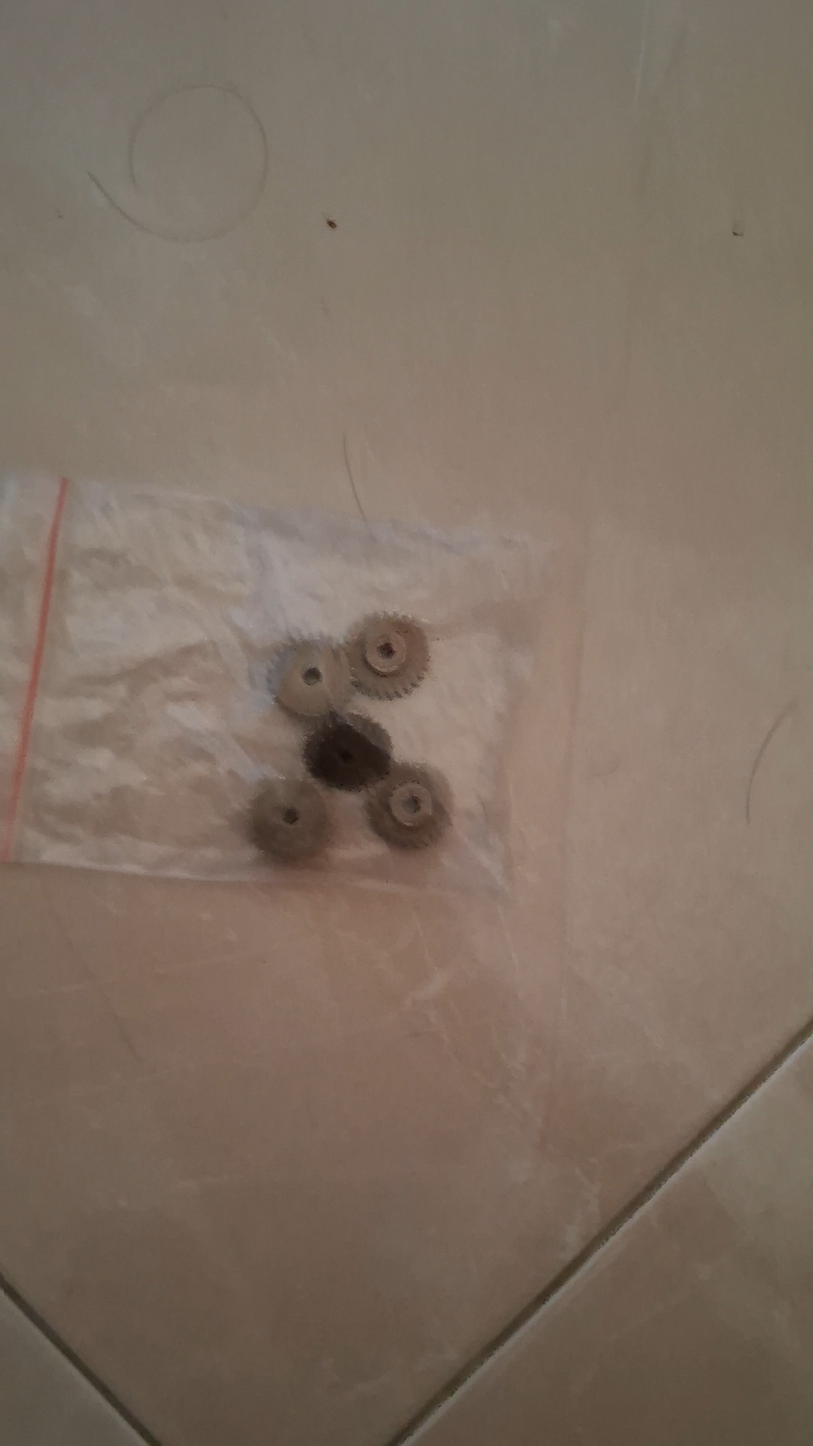spur gear: (346, 613, 429, 699), (367, 763, 450, 848), (303, 714, 391, 791), (249, 779, 329, 862), (276, 640, 352, 718)
